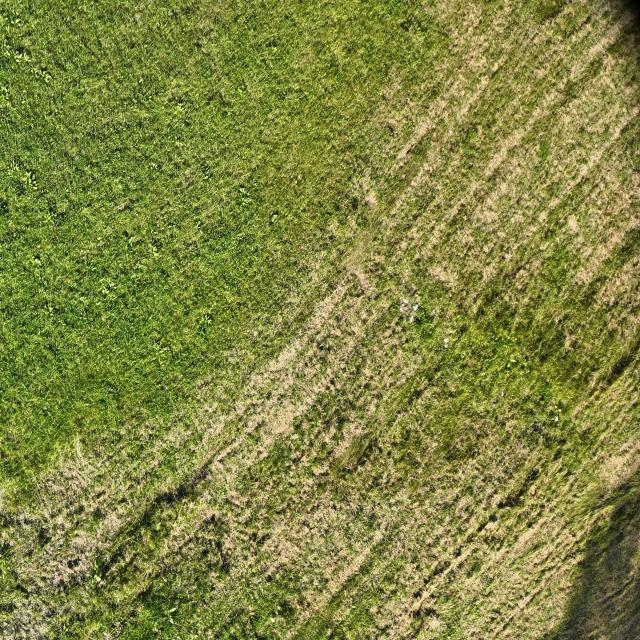rumex: (59, 316, 170, 439), (334, 423, 430, 533), (307, 158, 377, 250), (88, 234, 158, 312), (314, 410, 374, 474), (143, 587, 215, 638), (63, 64, 115, 122), (448, 3, 492, 46), (522, 1, 570, 32), (334, 270, 368, 309), (50, 550, 84, 588), (157, 600, 184, 630), (454, 494, 477, 521), (225, 490, 252, 512), (272, 595, 296, 618), (31, 64, 54, 86), (601, 52, 617, 78), (403, 95, 416, 122), (235, 195, 253, 214), (442, 376, 459, 396), (14, 44, 32, 61), (171, 104, 187, 122), (400, 18, 416, 35), (468, 298, 482, 317), (443, 329, 455, 349), (28, 256, 42, 270), (45, 211, 57, 227), (201, 310, 214, 324), (548, 406, 559, 422), (402, 427, 412, 443), (155, 347, 169, 358), (117, 200, 129, 212), (236, 86, 246, 98), (272, 604, 282, 616), (96, 576, 106, 588), (564, 337, 572, 352), (491, 62, 501, 74), (154, 519, 163, 532), (15, 53, 26, 63), (100, 285, 110, 296), (520, 358, 528, 370), (212, 14, 220, 26), (93, 574, 102, 584), (134, 13, 142, 24), (124, 235, 131, 247), (26, 171, 33, 183), (46, 308, 54, 318), (152, 622, 160, 632), (271, 214, 279, 224), (122, 230, 130, 240), (167, 606, 177, 614), (448, 144, 456, 154), (324, 95, 331, 106), (12, 163, 20, 172), (509, 358, 517, 367), (195, 218, 202, 228), (154, 342, 161, 352), (152, 247, 159, 257), (347, 605, 354, 615), (326, 627, 332, 638), (34, 254, 42, 262), (31, 182, 39, 190), (415, 26, 423, 34), (270, 46, 278, 54), (137, 77, 144, 86), (40, 64, 47, 72), (12, 19, 20, 26), (269, 616, 276, 624), (548, 404, 554, 413), (555, 402, 561, 411), (524, 388, 530, 396), (480, 371, 486, 378), (574, 491, 581, 497), (161, 577, 167, 583)
